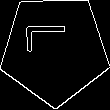L_E: (31, 33, 79, 66)
